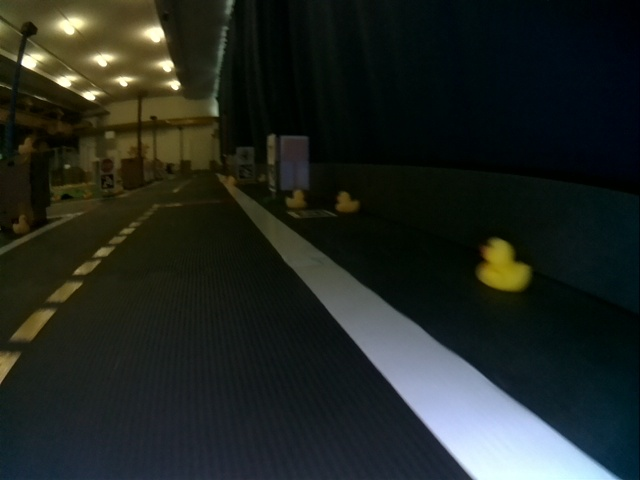Duckie: (478, 238, 530, 290), (336, 192, 358, 213), (285, 190, 305, 207), (13, 216, 29, 232), (18, 138, 34, 153)
QR code: (288, 209, 335, 219)
